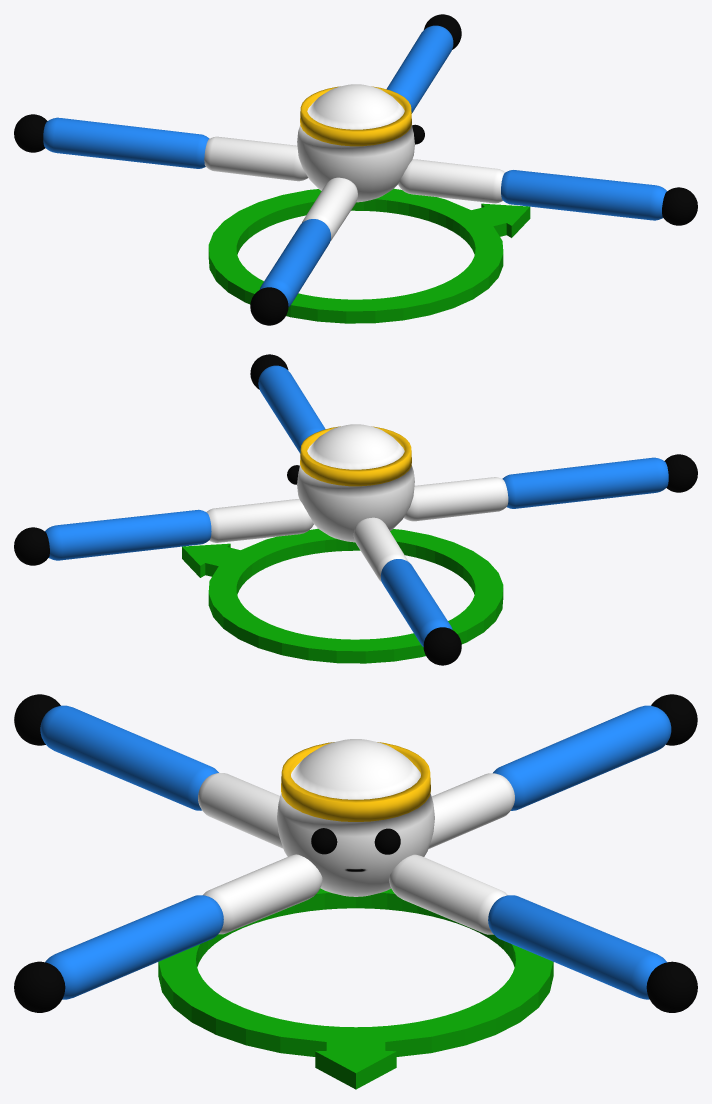
File: spider.fbx
3 renders of one model, top to bottom at view 1: azimuth 30°, elevation 25°; view 2: azimuth 150°, elevation 25°; view 3: azimuth 270°, elevation 25°, orthographic. The views are drawn at different scales.
Visible parts, largest first — view 1: Direction, Head, Shin1, Shin4, Thigh4, Thigh1, Shin3, Shin2, Thigh3, Foot3, Foot4, Foot1 (+1 smaller); view 2: Direction, Head, Shin2, Shin3, Thigh2, Thigh3, Shin1, Shin4, Thigh1, Foot1, Foot2, Foot3 (+1 smaller); view 3: Direction, Head, Shin4, Shin2, Shin3, Shin1, Thigh2, Thigh4, Thigh1, Thigh3, Foot4, Foot2 (+2 smaller).
Part boxes in pixels (x1=…): Direction: x1=208, y1=188, x2=530, y2=323; Head: x1=297, y1=84, x2=414, y2=202; Shin1: x1=43, y1=117, x2=209, y2=168; Shin4: x1=501, y1=170, x2=666, y2=220; Thigh4: x1=398, y1=159, x2=504, y2=203; Thigh1: x1=204, y1=136, x2=308, y2=181; Shin3: x1=259, y1=219, x2=330, y2=307; Shin2: x1=386, y1=25, x2=453, y2=113; Thigh3: x1=302, y1=177, x2=357, y2=240; Foot3: x1=250, y1=287, x2=288, y2=325; Foot4: x1=662, y1=187, x2=697, y2=225; Foot1: x1=14, y1=114, x2=47, y2=152; Direction: x1=182, y1=528, x2=503, y2=663; Head: x1=297, y1=424, x2=414, y2=542; Shin2: x1=45, y1=509, x2=211, y2=560; Shin3: x1=502, y1=457, x2=668, y2=508; Thigh2: x1=206, y1=499, x2=313, y2=542; Thigh3: x1=403, y1=477, x2=508, y2=521; Shin1: x1=381, y1=559, x2=452, y2=646; Shin4: x1=258, y1=365, x2=325, y2=453; Thigh1: x1=353, y1=517, x2=408, y2=582; Foot1: x1=423, y1=627, x2=461, y2=665; Foot2: x1=14, y1=527, x2=49, y2=565; Foot3: x1=664, y1=454, x2=697, y2=492; Direction: x1=158, y1=888, x2=553, y2=1089; Head: x1=277, y1=739, x2=434, y2=896; Shin4: x1=45, y1=895, x2=223, y2=999; Shin2: x1=488, y1=895, x2=666, y2=999; Shin3: x1=40, y1=705, x2=218, y2=810; Shin1: x1=493, y1=705, x2=671, y2=810; Thigh2: x1=389, y1=854, x2=507, y2=934; Thigh4: x1=203, y1=854, x2=322, y2=934; Thigh1: x1=428, y1=773, x2=514, y2=848; Thigh3: x1=198, y1=773, x2=283, y2=848; Foot4: x1=14, y1=961, x2=65, y2=1012; Foot2: x1=646, y1=961, x2=697, y2=1012.
Bounding box in the file's own units: 8.65 × 3.2 × 8.65.
Materials: 1 (1 with a texture image).
